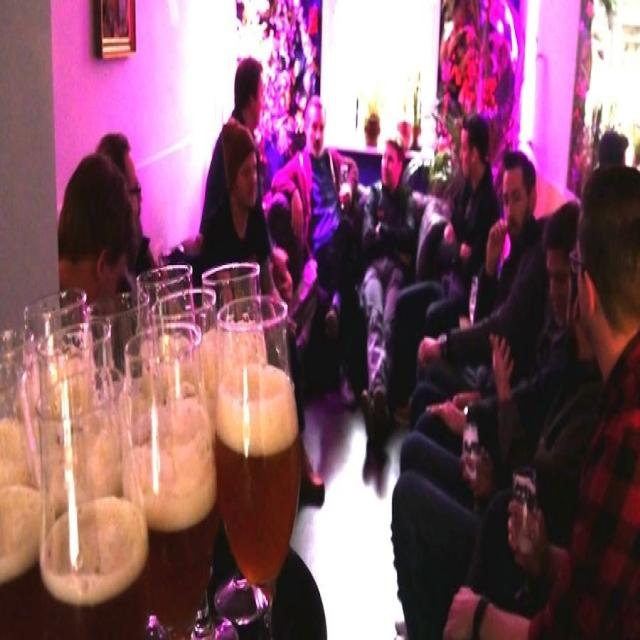body: (388, 231, 640, 638), (445, 160, 640, 640), (191, 109, 330, 512), (402, 198, 582, 448), (406, 146, 549, 434), (388, 112, 502, 409), (270, 89, 360, 360), (198, 54, 294, 298), (358, 134, 414, 451), (53, 125, 155, 298), (439, 1, 519, 128), (586, 122, 640, 184), (363, 101, 387, 149)
